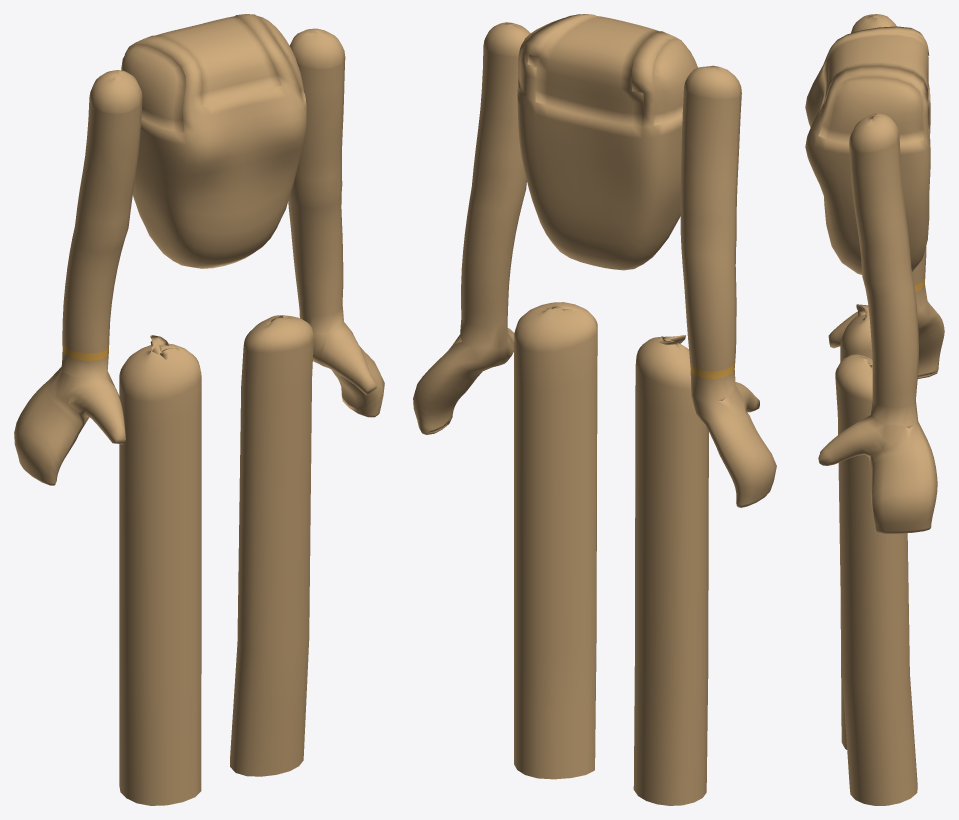
Rendered from female npc body.fbx.
3 renders of one model, left to right at view 1: azimuth 30°, elevation 25°; view 2: azimuth 150°, elevation 25°; view 3: azimuth 270°, elevation 25°, orthographic. The views are drawn at different scales.
Parts seen in each view (by area): view 1: Cube.003, Sphere.002, Cube.002, NurbsPath.005, NurbsPath.003; view 2: Cube.002, Sphere.002, Cube.003, NurbsPath.005, NurbsPath.003; view 3: Cube.002, NurbsPath.003, Sphere.002, NurbsPath.005, Cube.003.
Boxes of the visible parts, <box> form: Cube.003: <box>119,335,201,805</box>; Sphere.002: <box>121,14,306,268</box>; Cube.002: <box>230,315,313,776</box>; NurbsPath.005: <box>14,70,142,485</box>; NurbsPath.003: <box>288,28,384,417</box>; Cube.002: <box>514,302,597,779</box>; Sphere.002: <box>517,14,697,270</box>; Cube.003: <box>633,335,708,805</box>; NurbsPath.005: <box>680,65,776,507</box>; NurbsPath.003: <box>413,22,530,434</box>; Cube.002: <box>835,354,917,805</box>; NurbsPath.003: <box>818,113,937,533</box>; Sphere.002: <box>805,26,930,274</box>; NurbsPath.005: <box>828,14,944,378</box>; Cube.003: <box>840,304,872,749</box>.
Bounding box in the file's own units: 301 × 608 × 107.
